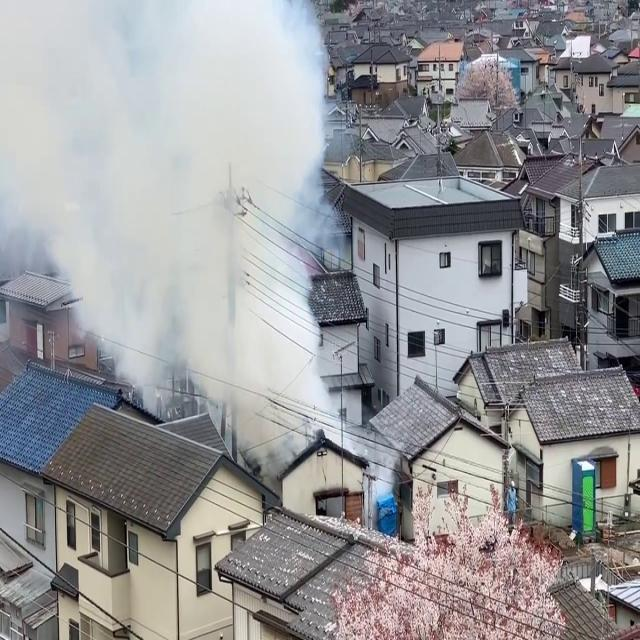Smoke: (13, 0, 348, 450)
